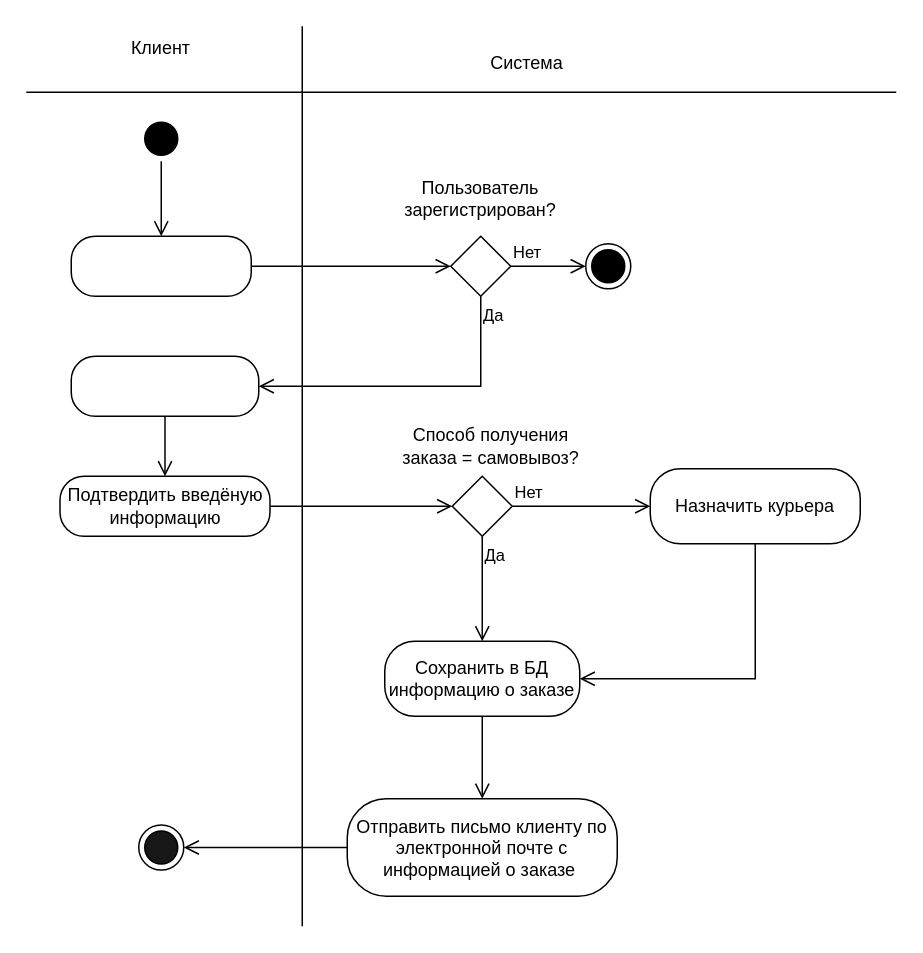
This 923x953 diagram has some shape labels left out. The shapes that lost their labels are listed below. From the top down, each one's centre as x and y in pixels, then its label:
(160,265): Оформить заказ
(164,385): Ввести информацию о заказе
